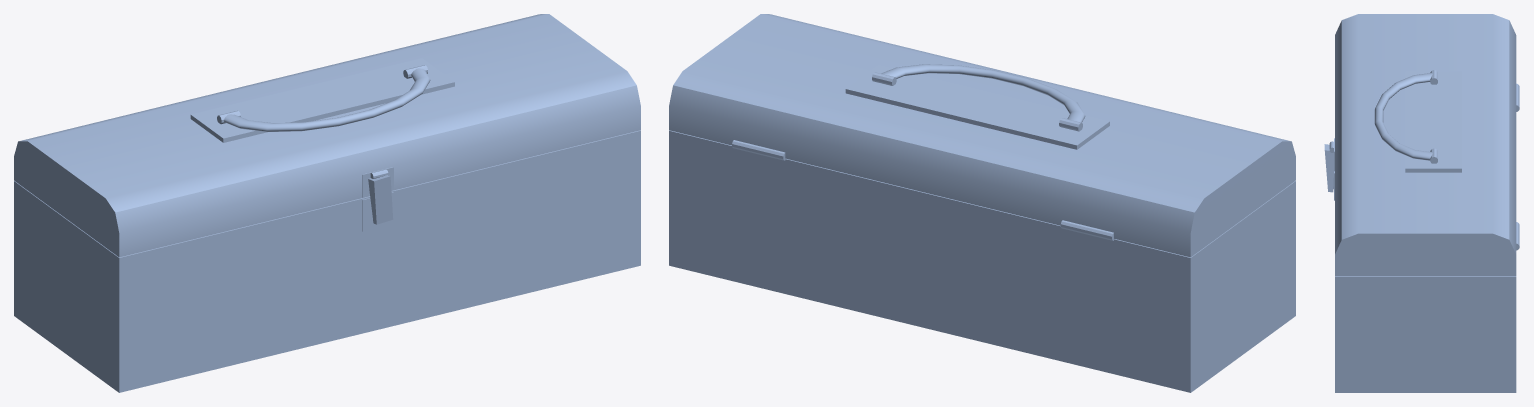
Rendered from Tool_Box.fbx.
3 views of the same model, side by side, from view 1: azimuth 30°, elevation 25°; view 2: azimuth 150°, elevation 25°; view 3: azimuth 270°, elevation 25° (orthographic). The views are drawn at different scales.
Parts seen in each view (by area): view 1: polySurface2, Lid, Brace, Handle, Latch1; view 2: polySurface2, Lid, Brace, Handle; view 3: Lid, polySurface2, Brace, Handle, Latch1.
Part boxes in pixels (x1=…): polySurface2: x1=14, y1=130, x2=640, y2=392; Lid: x1=14, y1=14, x2=640, y2=257; Brace: x1=190, y1=58, x2=454, y2=142; Handle: x1=224, y1=68, x2=430, y2=131; Latch1: x1=368, y1=175, x2=393, y2=224; polySurface2: x1=669, y1=130, x2=1295, y2=392; Lid: x1=669, y1=14, x2=1295, y2=257; Brace: x1=845, y1=65, x2=1109, y2=149; Handle: x1=881, y1=64, x2=1085, y2=122; Lid: x1=1335, y1=14, x2=1516, y2=275; polySurface2: x1=1335, y1=276, x2=1516, y2=392; Brace: x1=1405, y1=71, x2=1461, y2=172; Handle: x1=1374, y1=73, x2=1432, y2=160; Latch1: x1=1324, y1=144, x2=1333, y2=192.
Bounding box in the file's own units: 0.4815 × 0.1735 × 0.1807.
